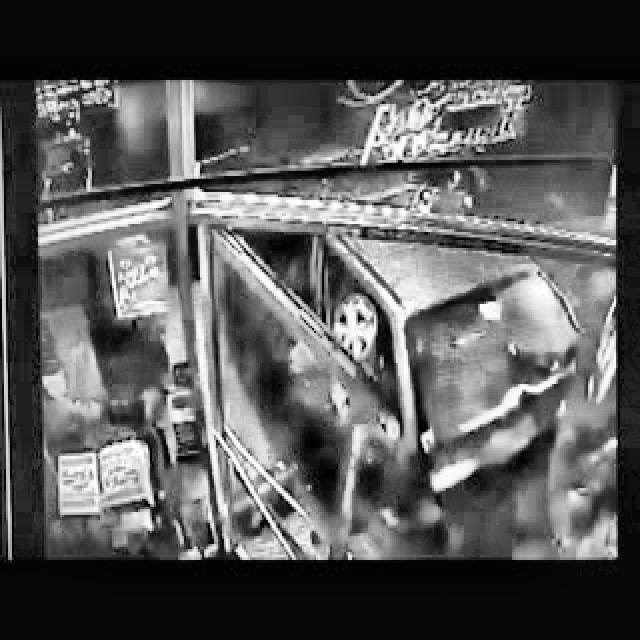burglary: (246, 238, 616, 560)
